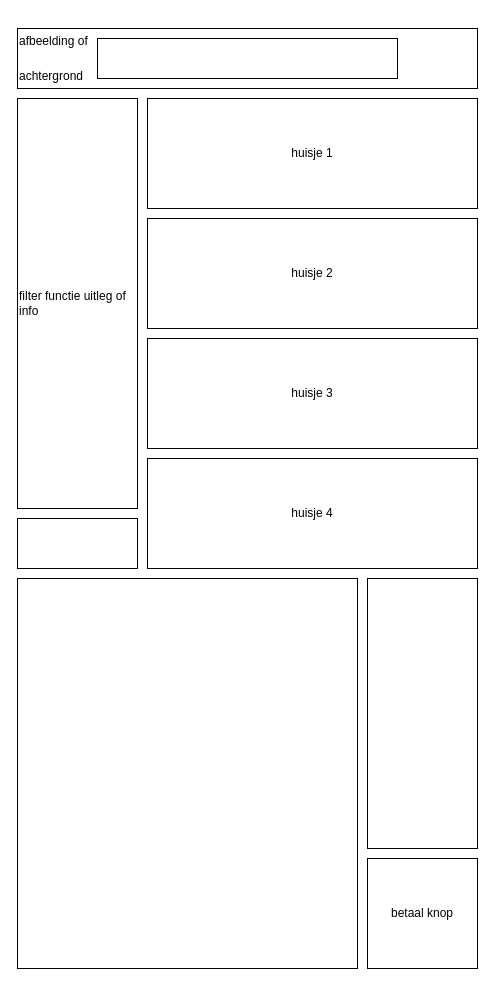
Some shapes in this 495 by 986 pixel diagram are drawn without their labels. Here are the shapes that lost their labels. From the top down, the centre of each, then its label:
At pixel 247 58: "Site-naam".
At pixel 77 543: "filter".
At pixel 422 713: "betaal optie".
At pixel 187 773: "kaart nederland met locatie huisen erop".
